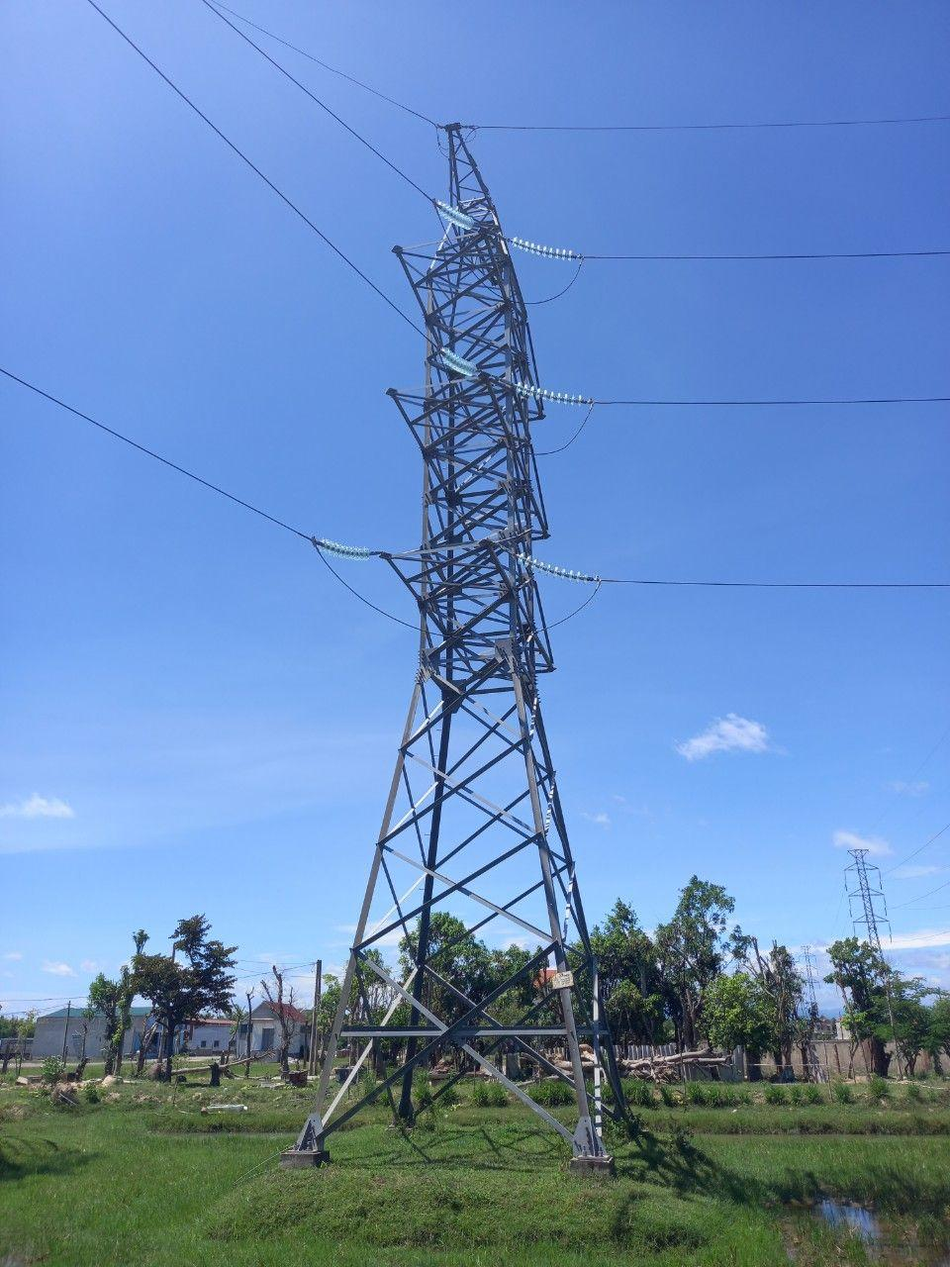tower: (237, 97, 668, 1195)
